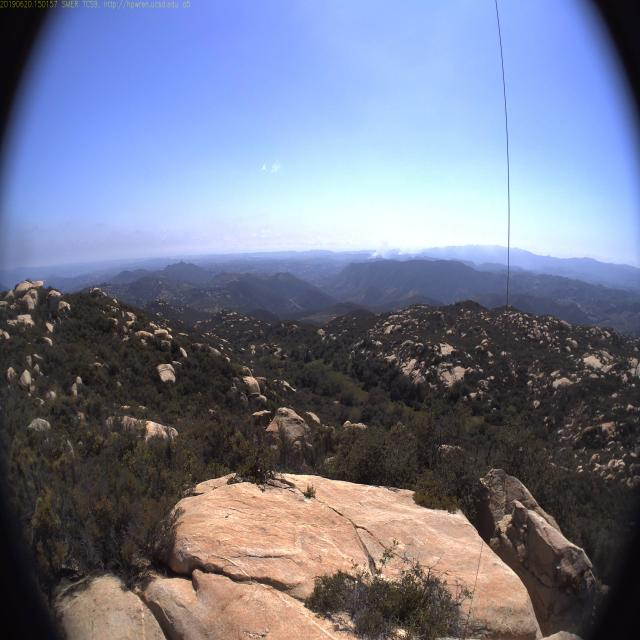smoke: (365, 236, 429, 262)
